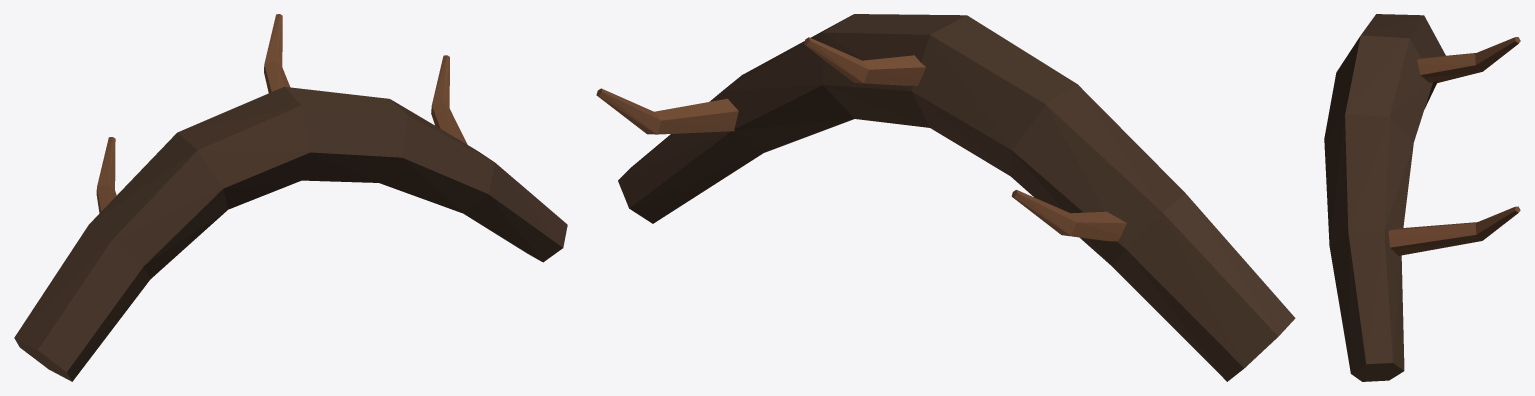
File: Prop_Common_ArchingDeadTrunk_001_LOD1.glb
3 views of the same model, side by side, from view 1: azimuth 30°, elevation 25°; view 2: azimuth 150°, elevation 25°; view 3: azimuth 270°, elevation 25° (orthographic). The views are drawn at different scales.
Visible parts, largest first — view 1: Prop_Common_ArchingDeadTrunk_001_LOD1; view 2: Prop_Common_ArchingDeadTrunk_001_LOD1; view 3: Prop_Common_ArchingDeadTrunk_001_LOD1.
Boxes of the visible parts, x1,y1,x2,y2 form: Prop_Common_ArchingDeadTrunk_001_LOD1: [14, 14, 567, 381]; Prop_Common_ArchingDeadTrunk_001_LOD1: [596, 14, 1295, 381]; Prop_Common_ArchingDeadTrunk_001_LOD1: [1324, 14, 1520, 381].
Size of the model in its own units: 4.29 by 1.88 by 1.31.
